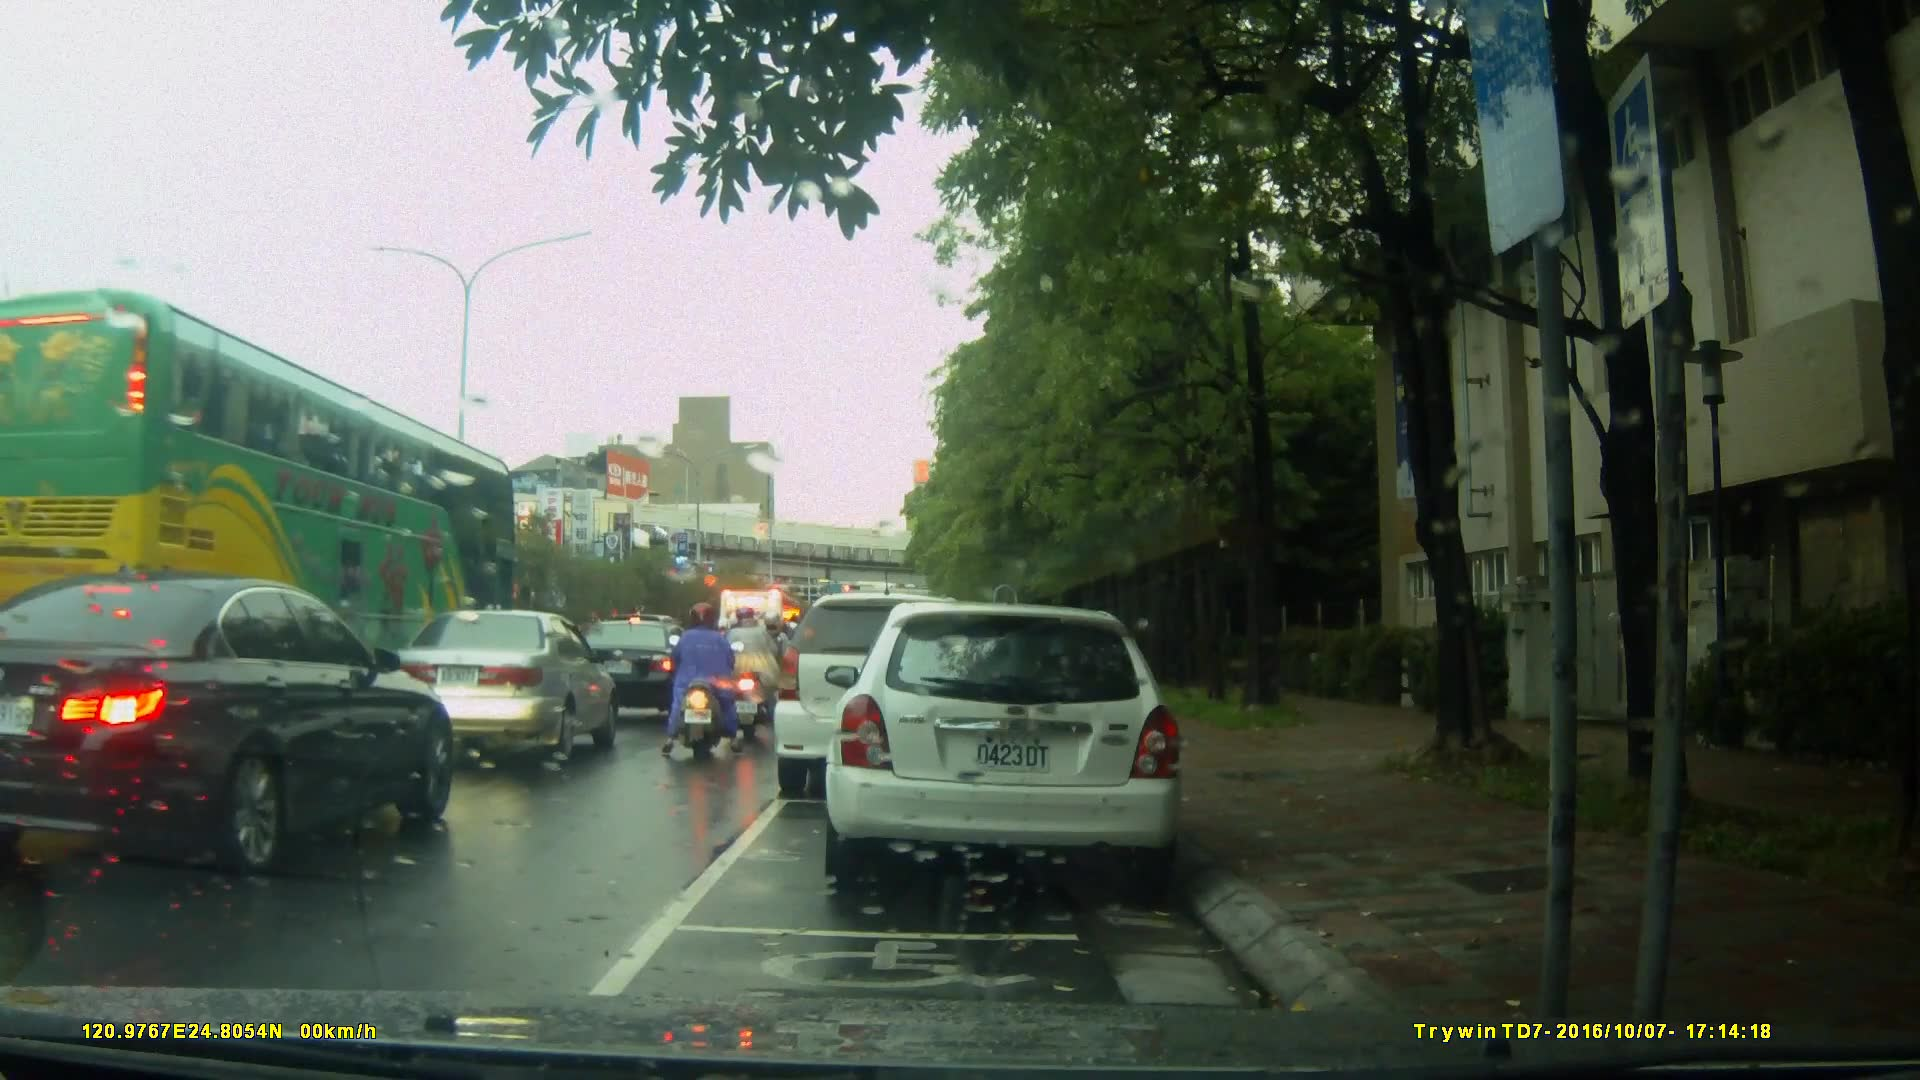rider: (664, 605, 731, 760), (734, 603, 788, 729)
vehicle: (1, 284, 523, 654), (9, 574, 457, 888), (831, 592, 1196, 897), (771, 592, 999, 798), (383, 610, 620, 772), (565, 619, 689, 723), (718, 585, 802, 706)
